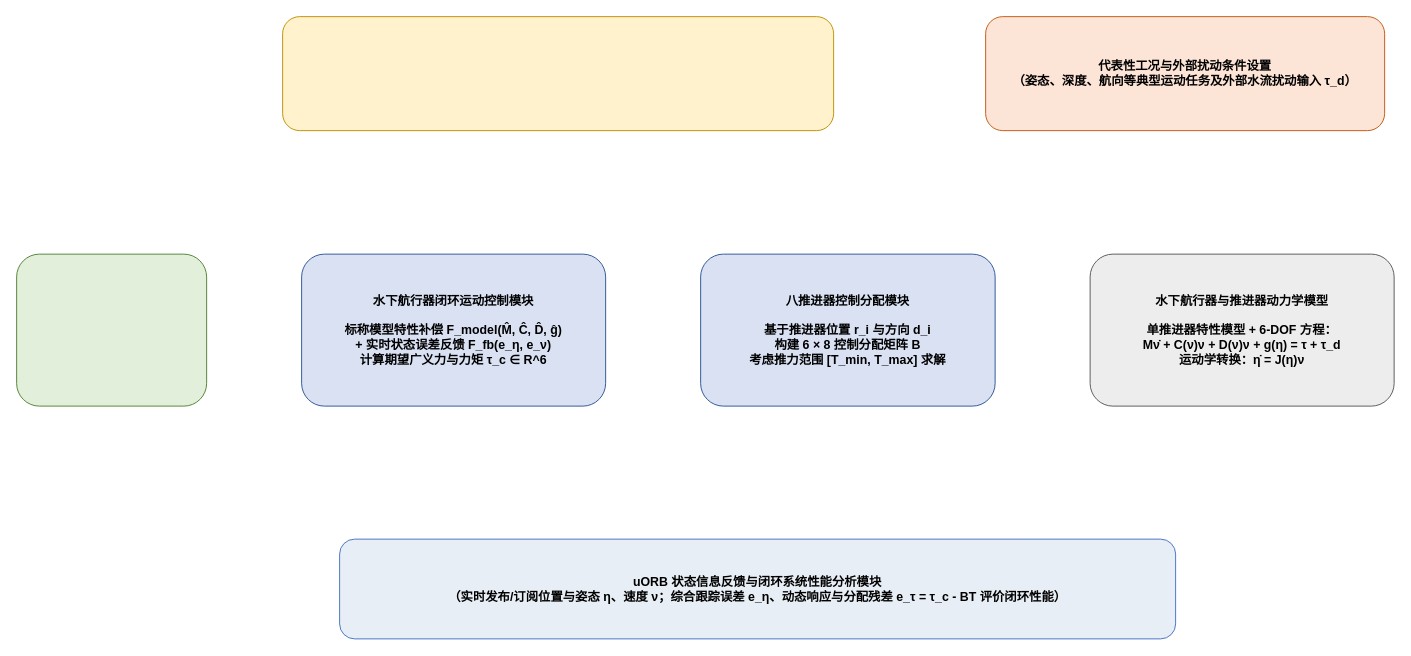
Some shapes in this 1411 by 656 pixel diagram are drawn without their labels. Each missing label, with the box of its shape:
参考运动状态 (η_r, ν_r) 姿态 / 深度 / 航向参考指令: (16, 253, 207, 406)
平台参数资料与相关数据支撑：系统辨识与模型验证模块 （明确激励输入与响应输出关系，辨识未知参数集 θ 并输出标称模型 M̂, Ĉ, D̂, ĝ）: (282, 16, 834, 131)
